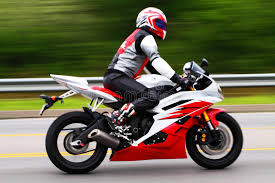motorcycle: (39, 55, 245, 178)
